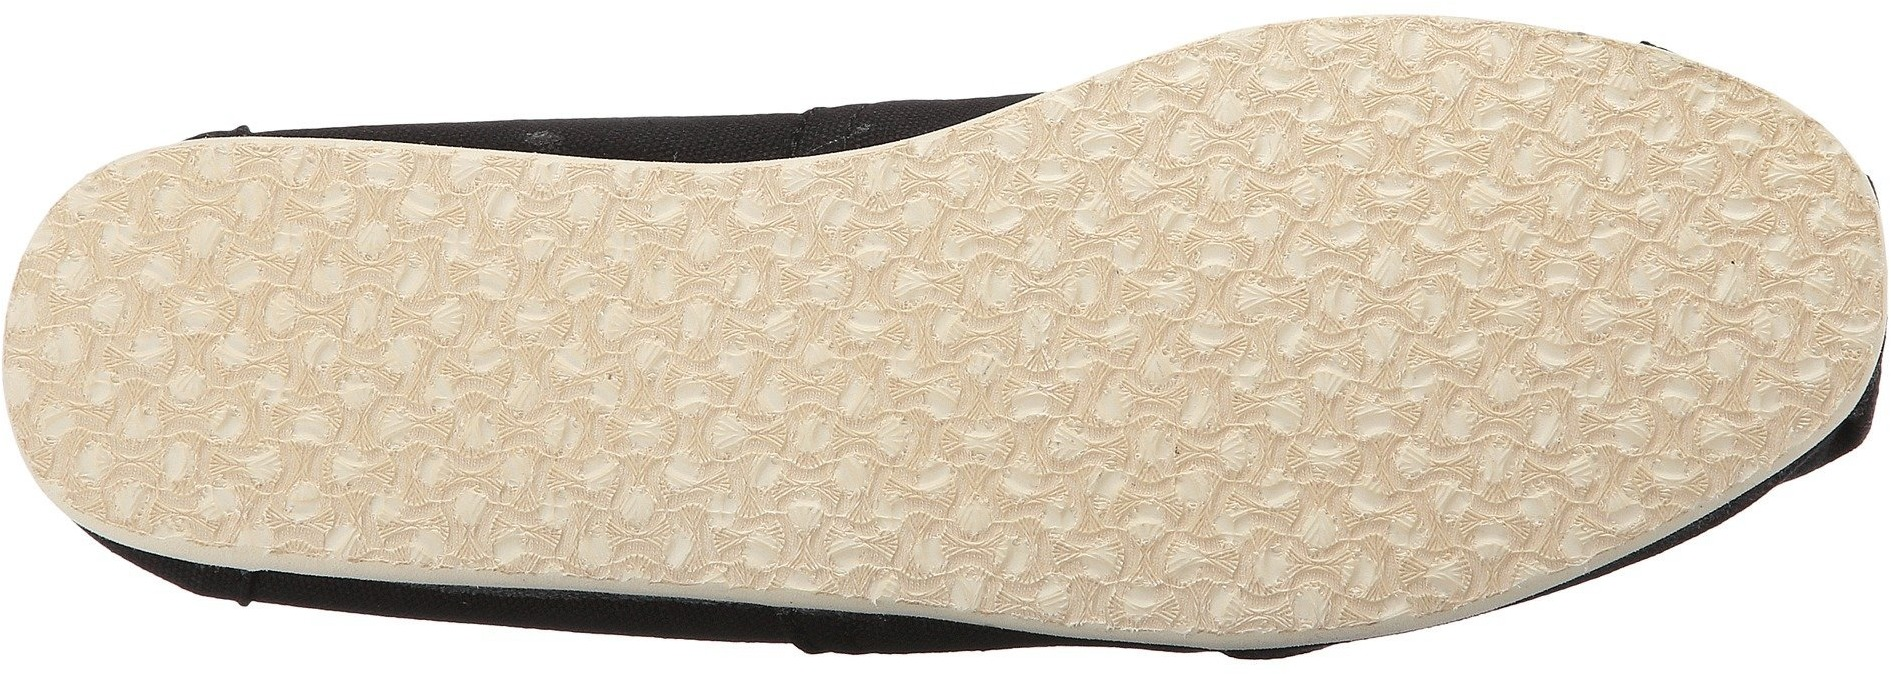exclude: (99, 23, 1144, 170)
other: (1116, 55, 1646, 532), (602, 181, 1056, 591), (170, 152, 605, 563), (1628, 172, 1844, 371), (19, 260, 193, 424)
